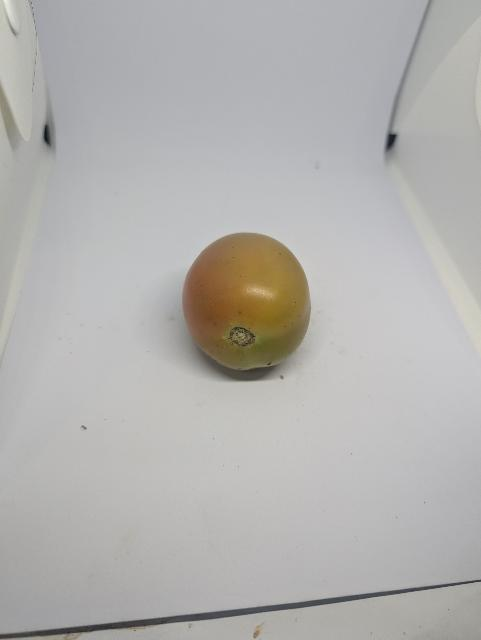breaker: (180, 227, 316, 378)
